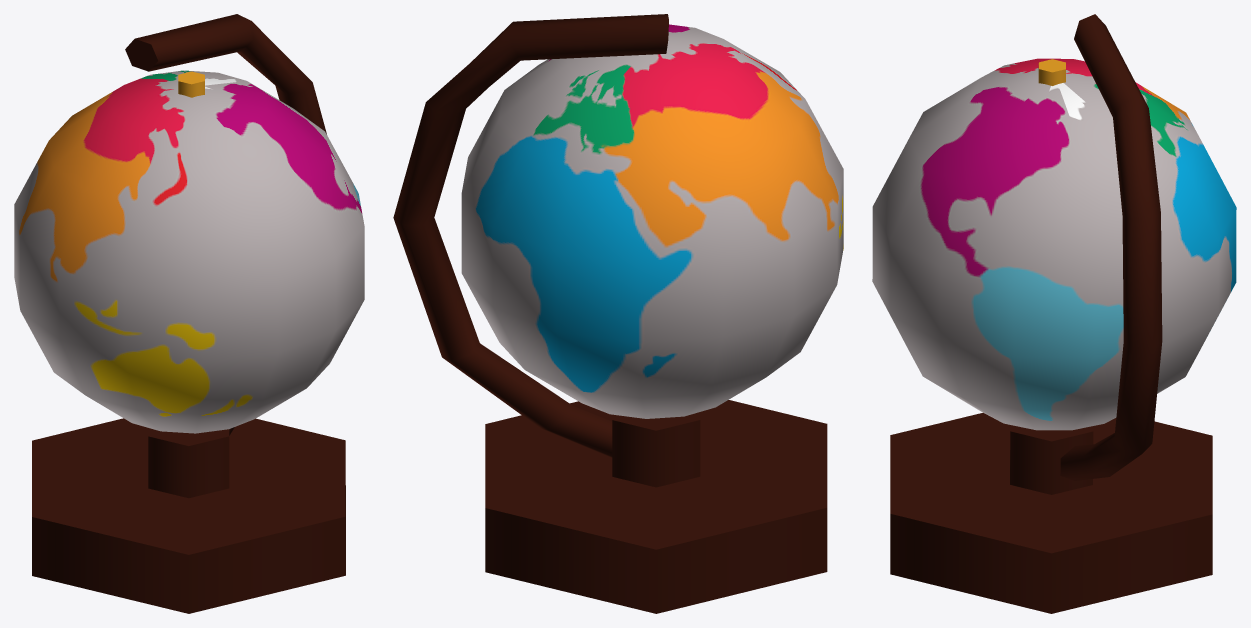
Rendered from globe.FBX.
The picture shows the model from 3 angles, left to right: view 1: azimuth 30°, elevation 25°; view 2: azimuth 150°, elevation 25°; view 3: azimuth 270°, elevation 25°; orthographic projection. The views are drawn at different scales.
Parts seen in each view (by area): view 1: Sphere001, Cylinder001, Cylinder004, Cylinder003, Cylinder005; view 2: Sphere001, Cylinder001, Cylinder004, Cylinder003; view 3: Sphere001, Cylinder001, Cylinder004, Cylinder003, Cylinder005.
Part boxes in pixels (bbox=[...]): Sphere001: bbox=[14, 70, 364, 433]; Cylinder001: bbox=[32, 418, 345, 613]; Cylinder004: bbox=[125, 14, 326, 435]; Cylinder003: bbox=[148, 428, 229, 498]; Cylinder005: bbox=[178, 71, 204, 97]; Sphere001: bbox=[461, 24, 843, 418]; Cylinder001: bbox=[485, 400, 827, 613]; Cylinder004: bbox=[393, 14, 668, 457]; Cylinder003: bbox=[612, 412, 700, 487]; Sphere001: bbox=[872, 58, 1236, 430]; Cylinder001: bbox=[890, 413, 1212, 613]; Cylinder004: bbox=[1060, 14, 1162, 480]; Cylinder003: bbox=[1010, 425, 1093, 494]; Cylinder005: bbox=[1038, 59, 1065, 85].
Bounding box in the file's own units: 136 × 183 × 120.
3 materials, 1 textured.
